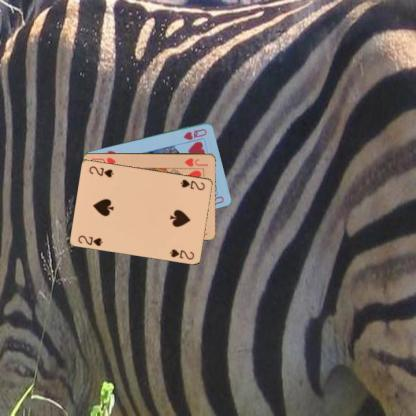2s: (178, 177, 206, 191), (76, 233, 104, 247)
Jh: (182, 156, 209, 168)
Qh: (181, 126, 208, 141)
